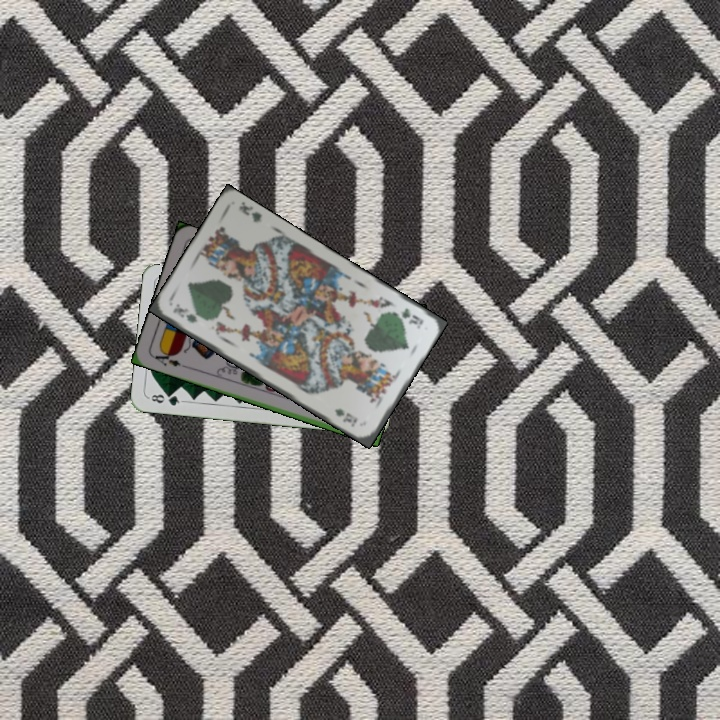EA: (149, 346, 188, 370)
G8: (145, 390, 186, 408)
GK: (396, 304, 426, 331), (169, 300, 200, 326)
